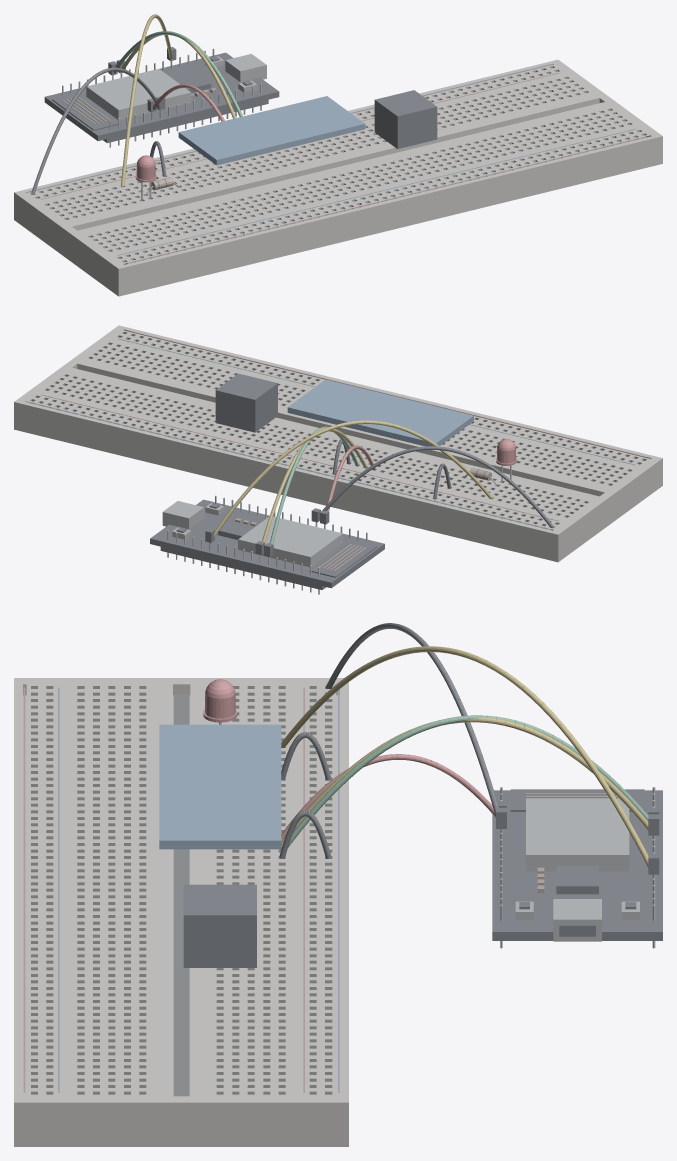
Rendered from step-13.glb.
3 renders of one model, top to bottom at view 1: azimuth 30°, elevation 25°; view 2: azimuth 150°, elevation 25°; view 3: azimuth 270°, elevation 25°, orthographic. The views are drawn at different scales.
Parts seen in each view (by area): view 1: breadboard__mesh, uno__mesh, sensor__mesh, buzzer__mesh, wire_led_signal__mesh, wire_ground__mesh, wire_sensor_echo__mesh, led_red__mesh, wire_sensor_trig__mesh, wire_sensor_power__mesh; view 2: breadboard__mesh, uno__mesh, sensor__mesh, buzzer__mesh, wire_led_signal__mesh, wire_ground__mesh, wire_sensor_echo__mesh, wire_sensor_trig__mesh, led_red__mesh, wire_sensor_power__mesh; view 3: breadboard__mesh, uno__mesh, sensor__mesh, buzzer__mesh, wire_led_signal__mesh, wire_sensor_echo__mesh, wire_ground__mesh, wire_sensor_trig__mesh, wire_sensor_power__mesh, led_red__mesh.
Boxes of the visible parts, left/top/right/bottom form: breadboard__mesh: left=14, top=59, right=662, bottom=296; uno__mesh: left=44, top=48, right=279, bottom=147; sensor__mesh: left=178, top=96, right=365, bottom=165; buzzer__mesh: left=374, top=90, right=437, bottom=148; wire_led_signal__mesh: left=121, top=14, right=176, bottom=186; wire_ground__mesh: left=31, top=67, right=165, bottom=194; wire_sensor_echo__mesh: left=108, top=31, right=242, bottom=116; led_red__mesh: left=135, top=155, right=156, bottom=200; wire_sensor_trig__mesh: left=116, top=31, right=236, bottom=118; wire_sensor_power__mesh: left=147, top=84, right=224, bottom=121; breadboard__mesh: left=14, top=325, right=662, bottom=562; uno__mesh: left=150, top=495, right=384, bottom=594; sensor__mesh: left=287, top=379, right=473, bottom=446; buzzer__mesh: left=215, top=373, right=277, bottom=432; wire_led_signal__mesh: left=205, top=420, right=492, bottom=542; wire_ground__mesh: left=311, top=446, right=553, bottom=527; wire_sensor_echo__mesh: left=264, top=426, right=358, bottom=557; wire_sensor_trig__mesh: left=255, top=427, right=367, bottom=555; led_red__mesh: left=496, top=439, right=517, bottom=482; wire_sensor_power__mesh: left=320, top=445, right=375, bottom=524; breadboard__mesh: left=14, top=678, right=348, bottom=1146; uno__mesh: left=492, top=787, right=662, bottom=948; sensor__mesh: left=159, top=724, right=281, bottom=849; buzzer__mesh: left=183, top=884, right=256, bottom=967; wire_led_signal__mesh: left=281, top=646, right=659, bottom=874; wire_sensor_echo__mesh: left=280, top=715, right=659, bottom=850; wire_ground__mesh: left=326, top=623, right=506, bottom=828; wire_sensor_trig__mesh: left=281, top=718, right=659, bottom=845; wire_sensor_power__mesh: left=281, top=754, right=506, bottom=838; led_red__mesh: left=203, top=679, right=237, bottom=724.
Size of the model in its own units: 0.165 by 0.0366 by 0.1065.
